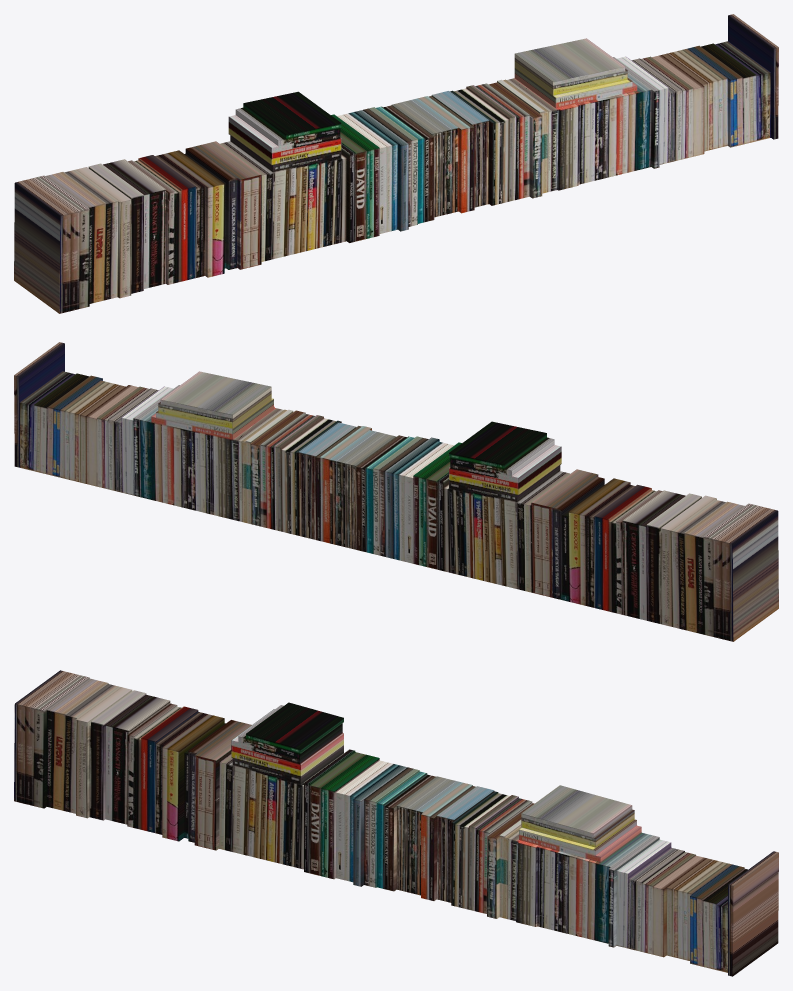
Rendered from bookrow3a.gltf.
3 renders of one model, top to bottom at view 1: azimuth 30°, elevation 25°; view 2: azimuth 150°, elevation 25°; view 3: azimuth 330°, elevation 25°, orthographic.
Visible parts, largest first — view 1: books4; view 2: books4; view 3: books4.
Part boxes in pixels (x1=…): books4: x1=14, y1=14, x2=778, y2=313; books4: x1=14, y1=342, x2=778, y2=641; books4: x1=14, y1=670, x2=778, y2=976.
Size of the model in its own units: 2.42 by 0.3908 by 0.27.
Materials: 1 (1 with a texture image).
